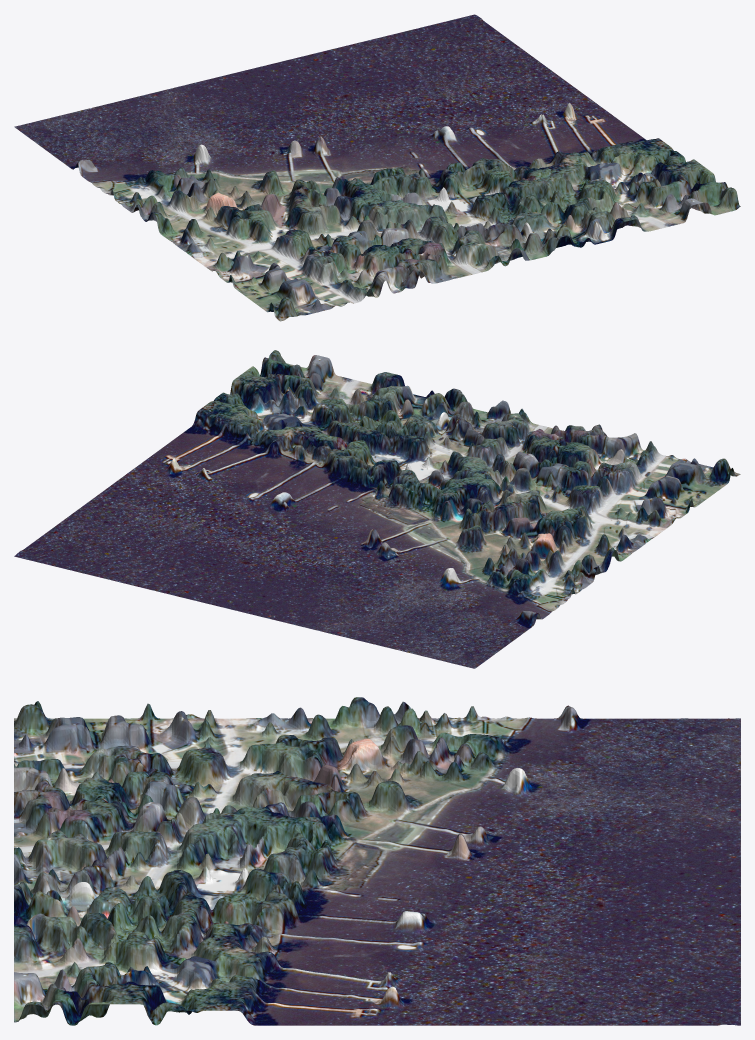
Rendered from depthwizard_final.glb.
The picture shows the model from 3 angles, top to bottom: view 1: azimuth 30°, elevation 25°; view 2: azimuth 150°, elevation 25°; view 3: azimuth 270°, elevation 25°; orthographic projection. The views are drawn at different scales.
Visible parts, largest first — view 1: geometry_0; view 2: geometry_0; view 3: geometry_0.
Part boxes in pixels (left/top/right/bottom): geometry_0: left=14, top=14, right=740, bottom=321; geometry_0: left=14, top=350, right=740, bottom=668; geometry_0: left=14, top=697, right=740, bottom=1025.
Bounding box in the file's own units: 200 × 6.5 × 200.
Materials: 1 (1 with a texture image).
